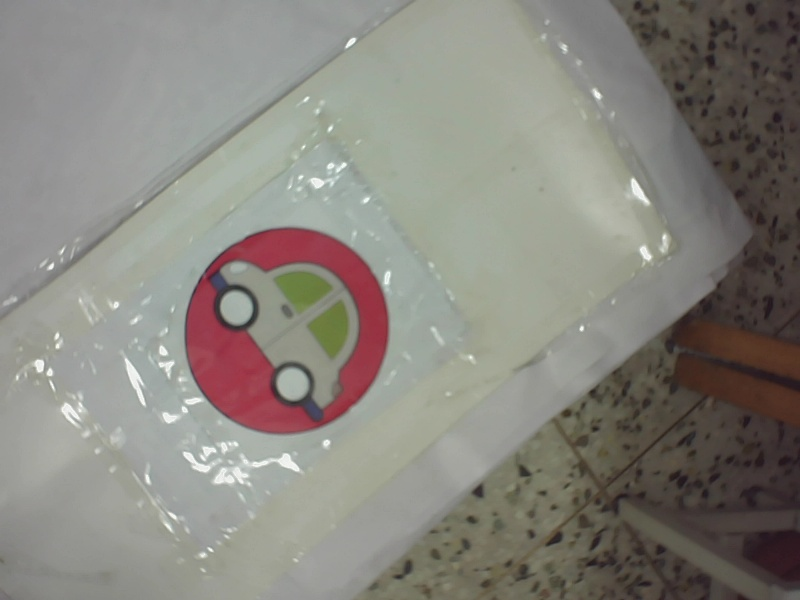areaC: (175, 223, 400, 438)
